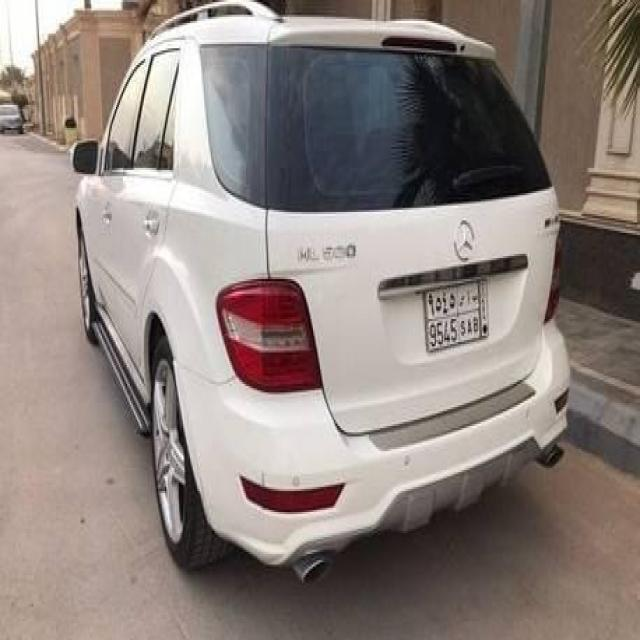license_plate: (415, 262, 496, 363)
